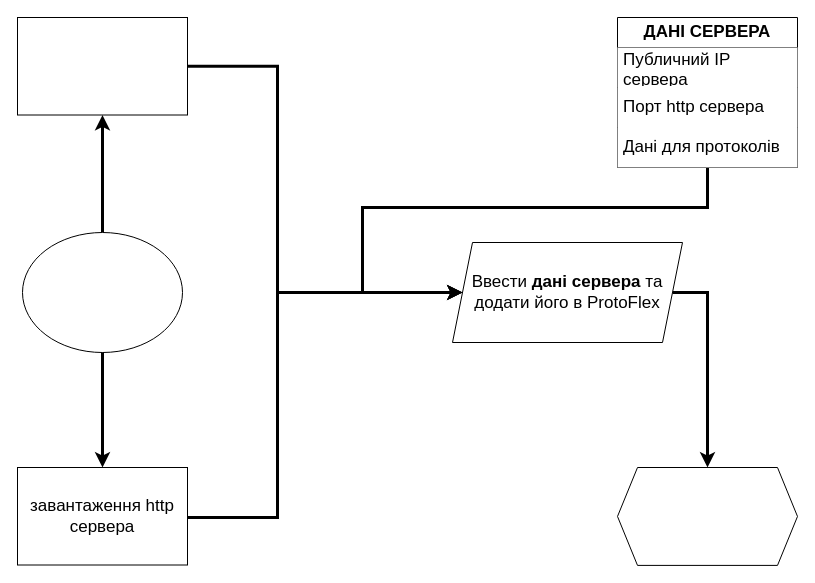
Image size: 815x583. Some labels were removed from this diagram. The centre of each missing label's shape, as x and y in pixels:
"SQLITE" goes at [707,515].
"Завантаження вибраних протоколів на сервер" goes at [102,65].
"запуск скріпта на сервері" goes at [102,292].
